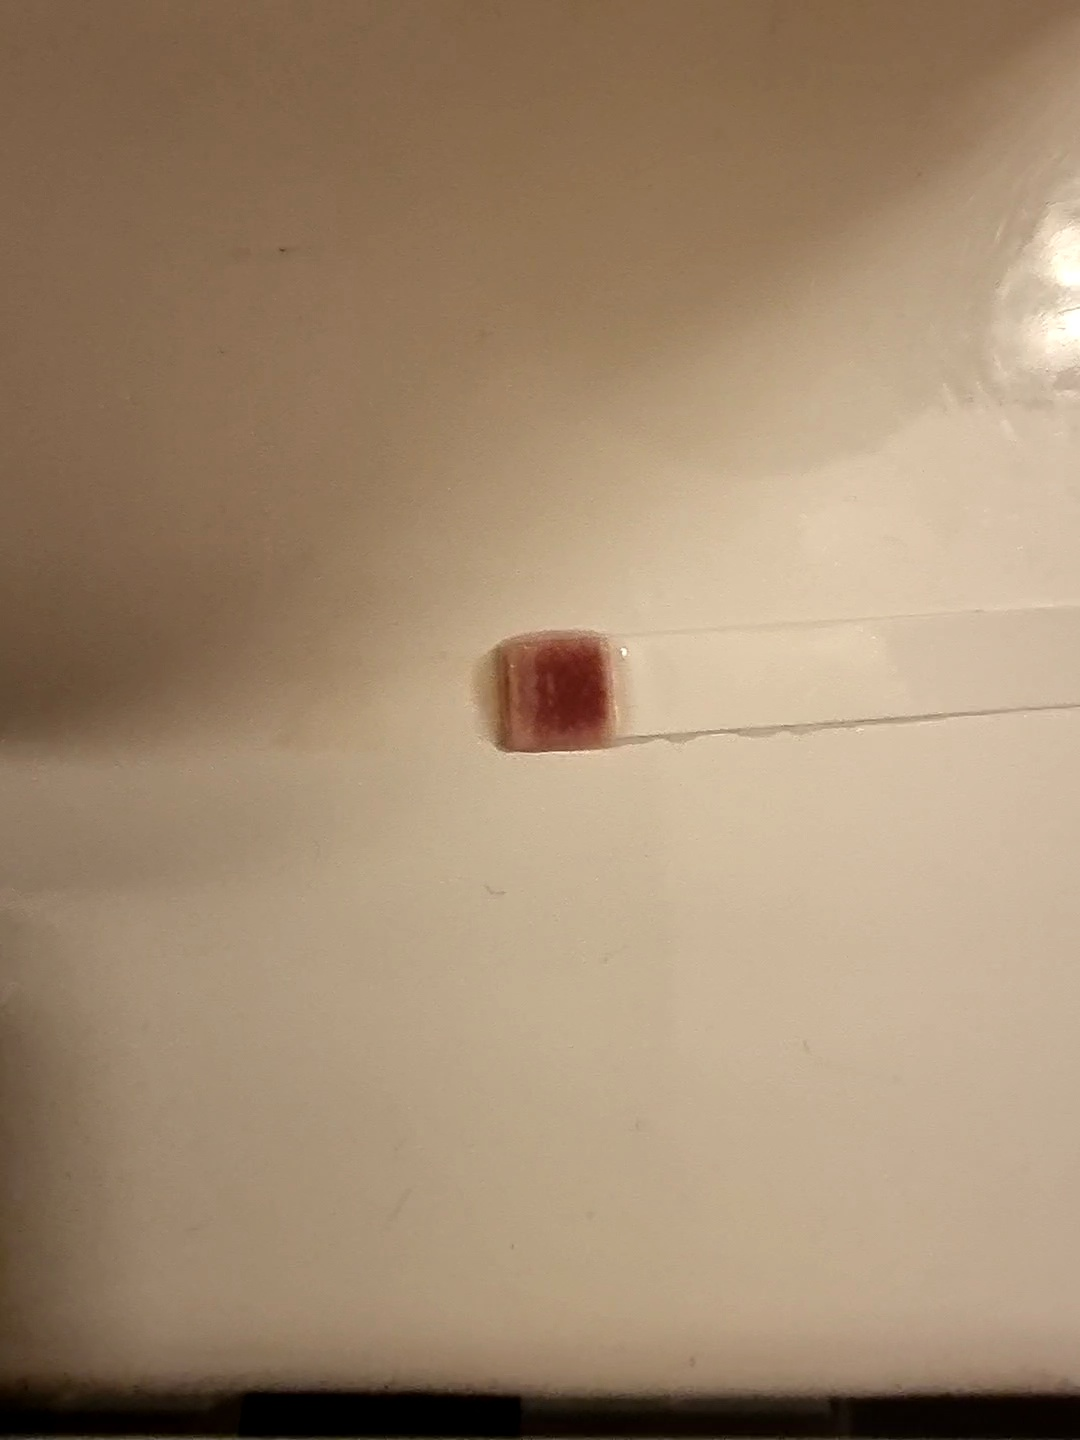keto-tip: (488, 630, 621, 755)
